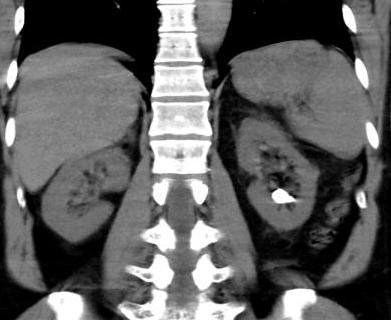Tas_Var: (272, 186, 296, 207)
